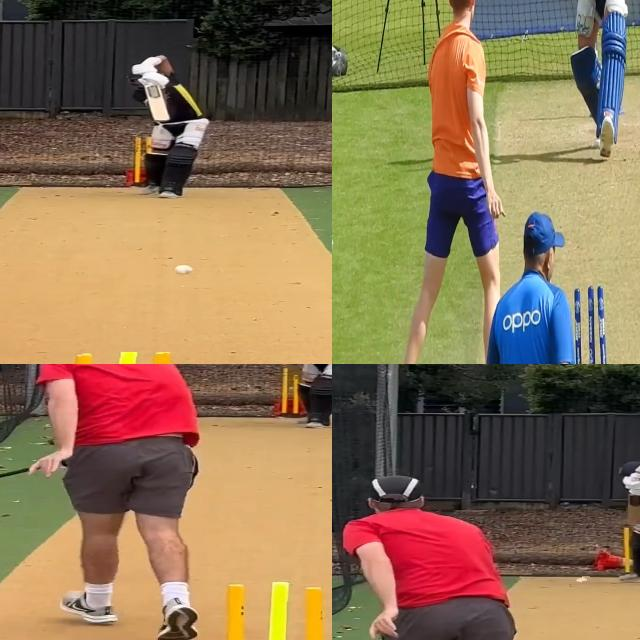Cricket ball: (174, 263, 195, 276), (575, 576, 590, 584), (332, 232, 336, 259)
Stumps: (204, 579, 332, 640)
